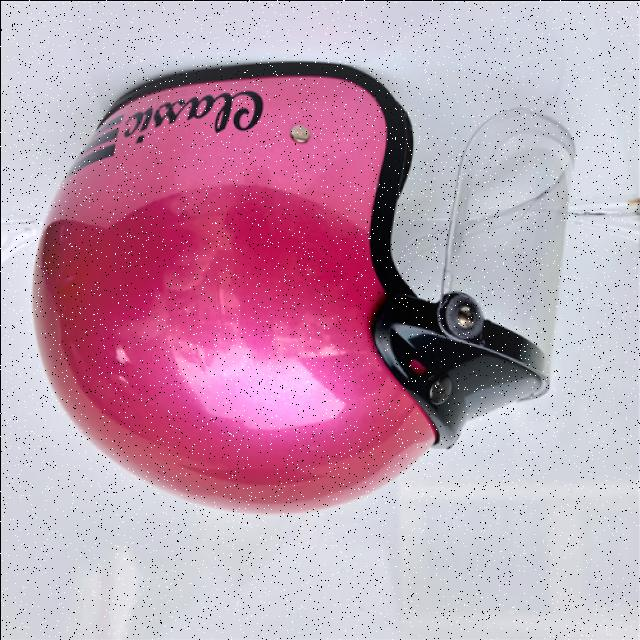Helmet: (28, 59, 549, 513)
